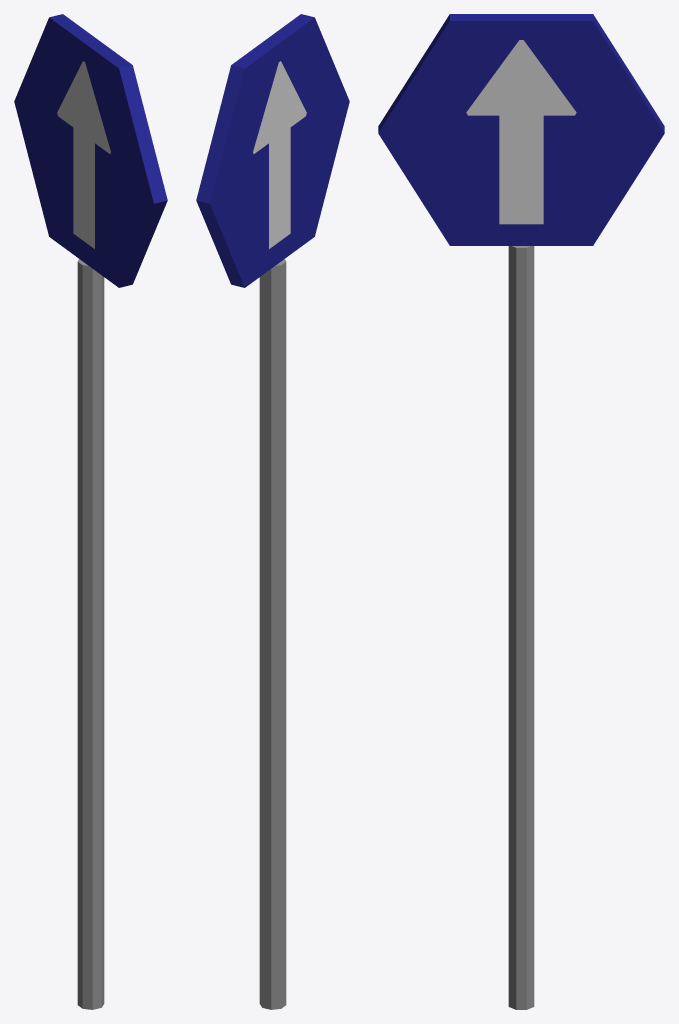
The model's file is Signage 5.fbx.
3 renders of one model, left to right at view 1: azimuth 30°, elevation 25°; view 2: azimuth 150°, elevation 25°; view 3: azimuth 270°, elevation 25°, orthographic. The views are drawn at different scales.
Visible parts, largest first — view 1: Signage 5; view 2: Signage 5; view 3: Signage 5.
Part boxes in pixels (x1,y1,x2,y2): Signage 5: (14, 14, 167, 1009); Signage 5: (196, 14, 349, 1009); Signage 5: (378, 14, 664, 1009).
Size of the model in its own units: 0.0622 by 0.6934 by 2.63.
